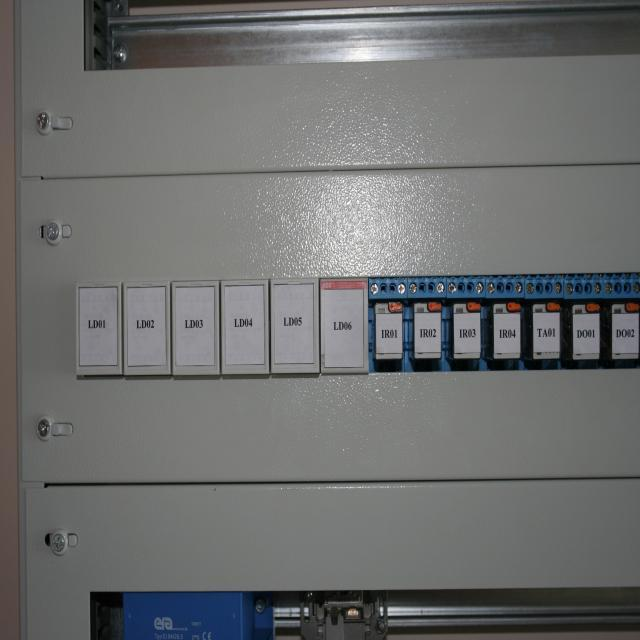Dimmer: (320, 277, 369, 374), (270, 278, 320, 373), (221, 279, 269, 374), (124, 281, 171, 374), (173, 281, 220, 374), (76, 282, 121, 373), (368, 277, 409, 372), (564, 272, 604, 368), (447, 275, 486, 371), (486, 274, 525, 369), (525, 274, 564, 369), (409, 275, 447, 372), (604, 272, 640, 368)
